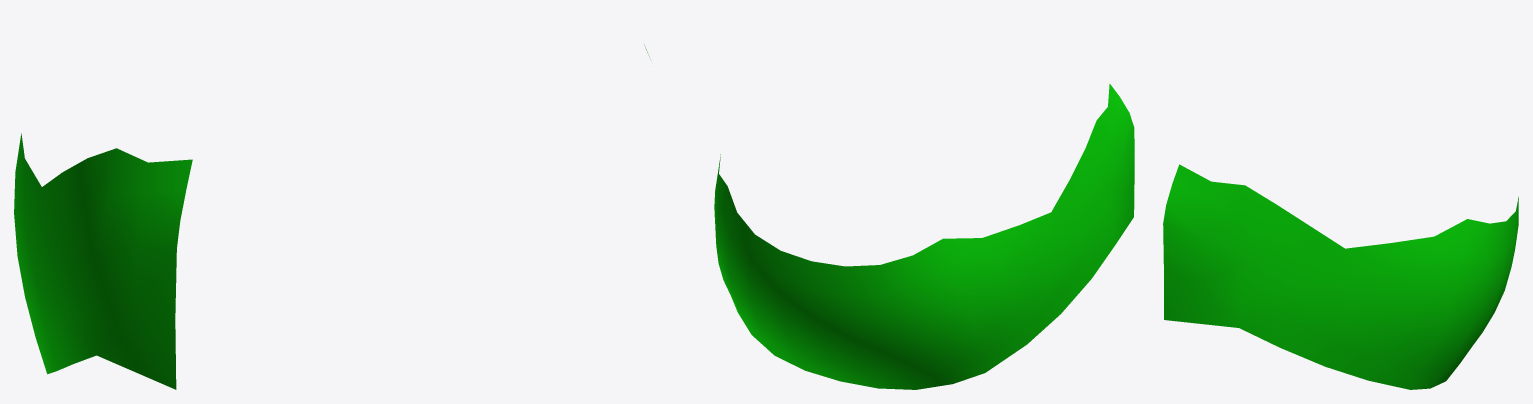
File: Hair2_23.glb
3 renders of one model, left to right at view 1: azimuth 30°, elevation 25°; view 2: azimuth 150°, elevation 25°; view 3: azimuth 270°, elevation 25°, orthographic. The views are drawn at different scales.
Bounding box in the file's own units: 52.6 × 34.54 × 42.76.
